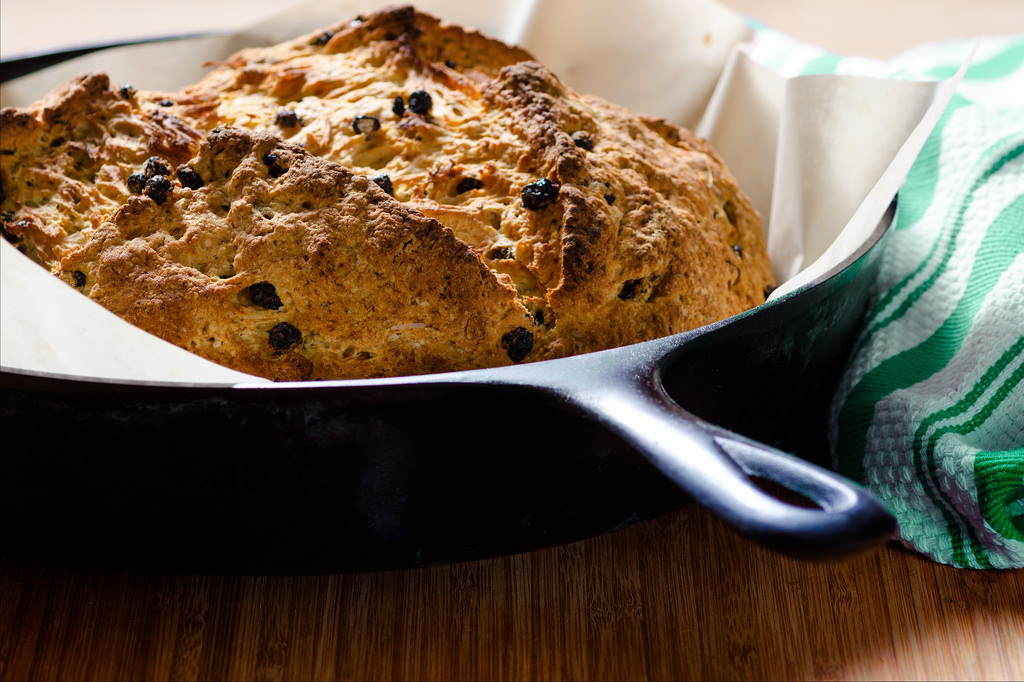slice of bread: (219, 51, 640, 343)
